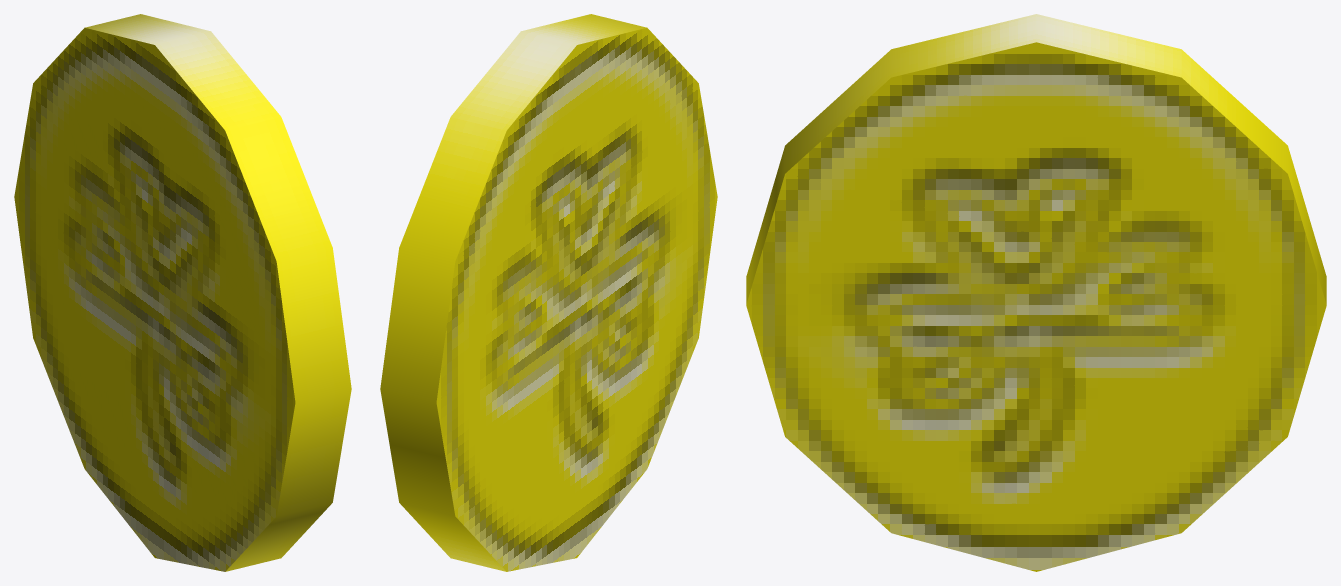
File: coin.obj
The picture shows the model from 3 angles, left to right: view 1: azimuth 30°, elevation 25°; view 2: azimuth 150°, elevation 25°; view 3: azimuth 270°, elevation 25°; orthographic projection. The views are drawn at different scales.
Visible parts, largest first — view 1: Cylinder01; view 2: Cylinder01; view 3: Cylinder01.
Boxes of the visible parts, x1,y1,x2,y2 form: Cylinder01: (14,14,351,571); Cylinder01: (380,14,717,571); Cylinder01: (746,14,1326,571).
Size of the model in its own units: 0.0456 by 0.3974 by 0.3947.
Materials: 1 (1 with a texture image).
